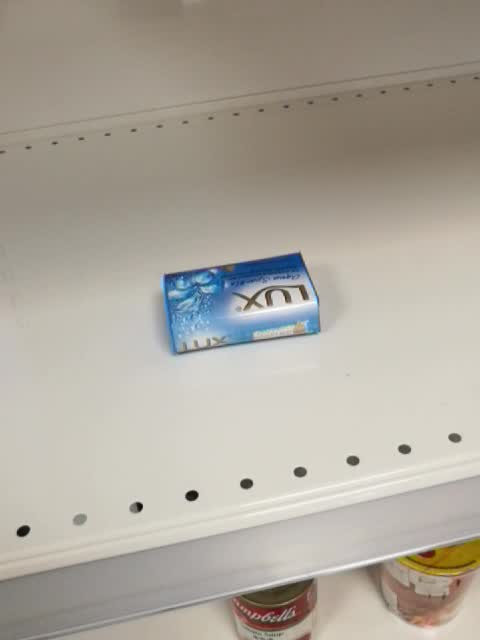soap: (162, 250, 323, 355)
